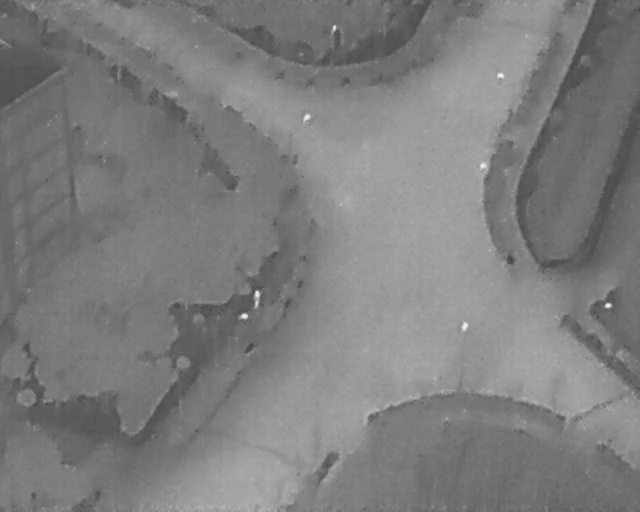Person: (253, 289, 261, 309)
